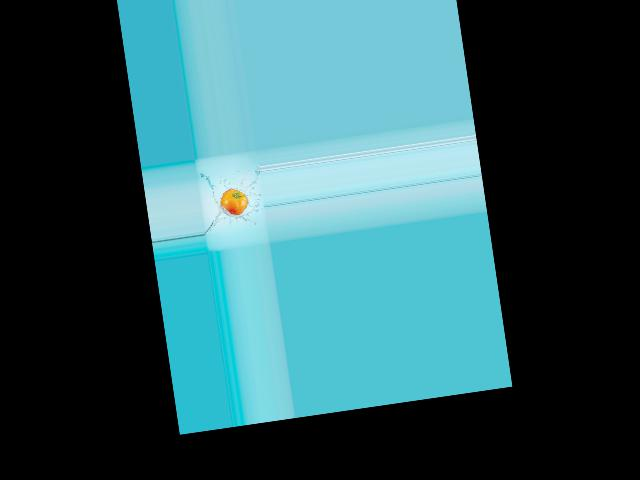tomato: (218, 187, 250, 217)
